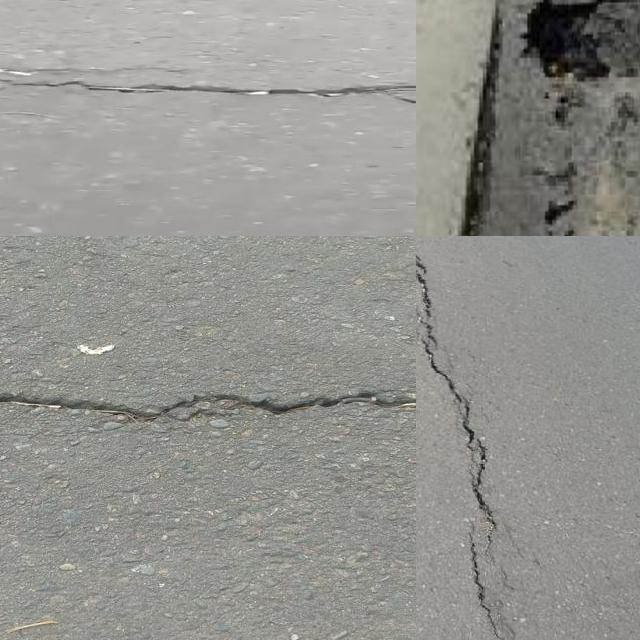Lubang: (473, 38, 574, 236), (518, 0, 640, 87)
Melintang: (0, 376, 416, 443), (0, 59, 416, 121)
Memanjang: (416, 236, 517, 640)
